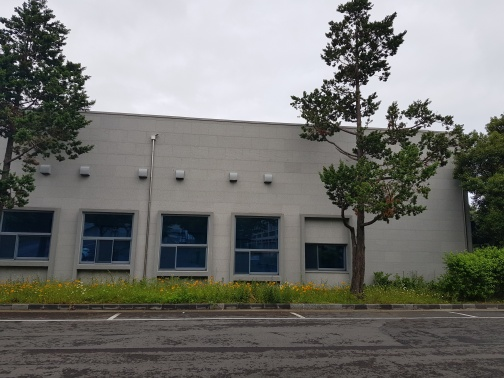College of Social Sciences: (19, 89, 488, 314), (49, 185, 299, 295)
